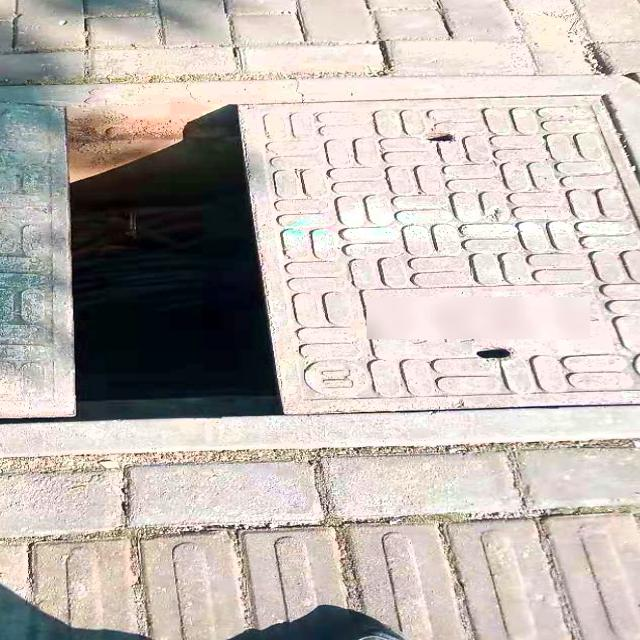uncovered: (0, 55, 610, 460)
